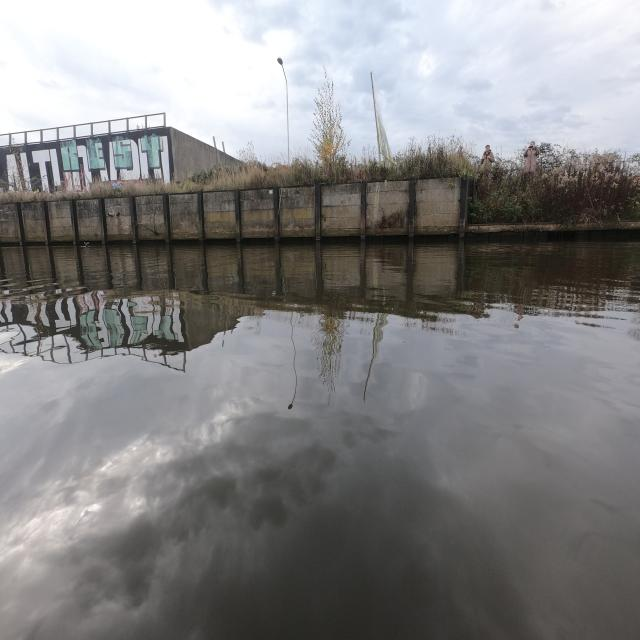dock: (466, 224, 570, 234), (572, 221, 640, 231)
sky: (0, 6, 638, 150)
wall: (72, 144, 468, 238)
water: (8, 240, 636, 632)
